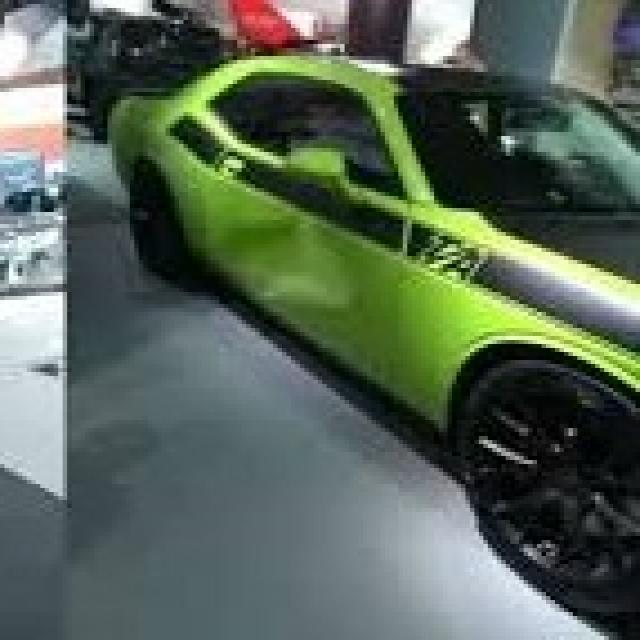minor: (185, 146, 466, 348)
